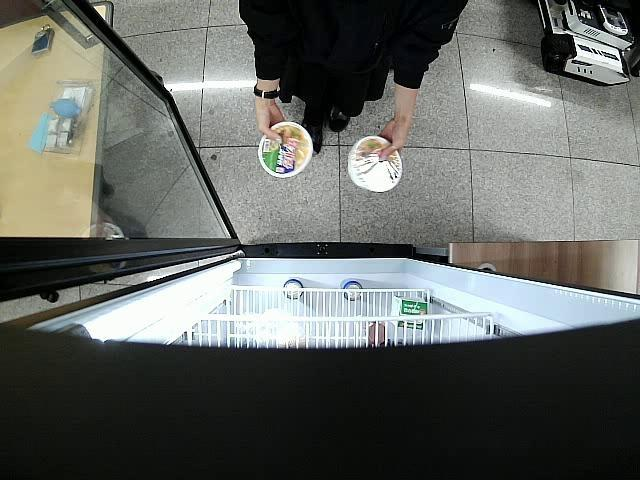09_yukGaeJang: (258, 122, 314, 178), (347, 136, 403, 192)
